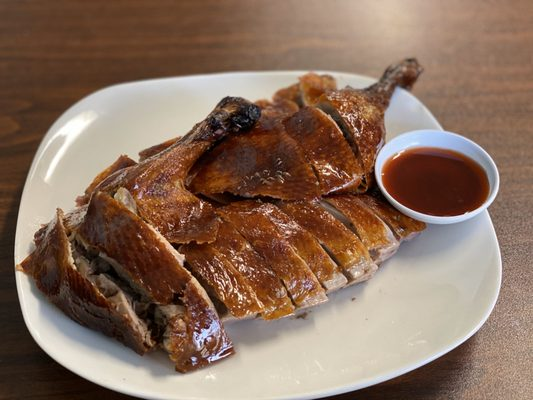pizza: (375, 127, 500, 225)
soup: (20, 193, 235, 373)
